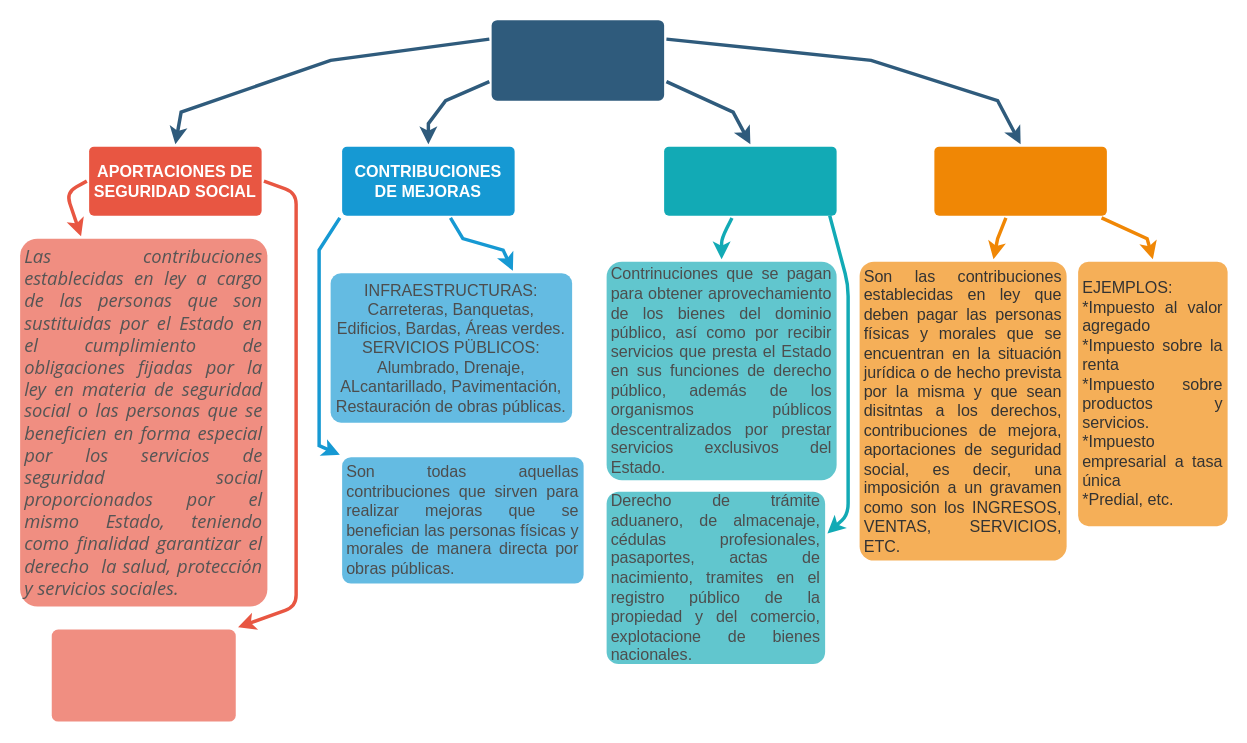
This 1247x743 diagram has some shape labels left out. Each missing label, with the box of its shape:
CONTRIBUCIONES: (491, 20, 664, 100)
DERECHOS: (664, 146, 836, 215)
EJEMPLOS: ISSSTE, IMSS, SEGURO POPULAR/ INSABI, SECRETARIA DE SALUD: (51, 629, 235, 721)
IMPUESTOS: (934, 146, 1106, 215)
